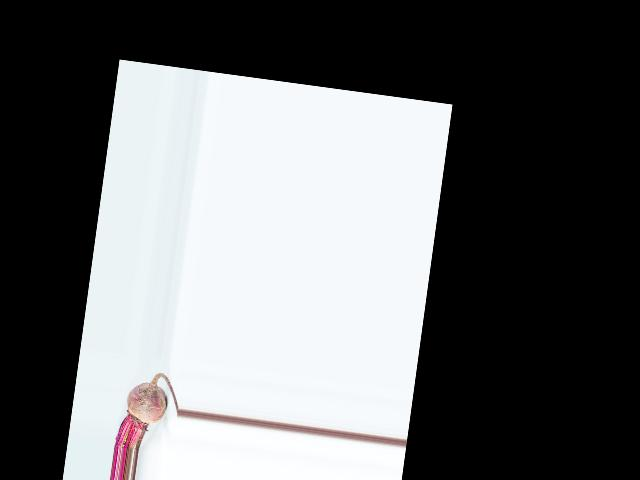beet: (114, 368, 182, 455)
